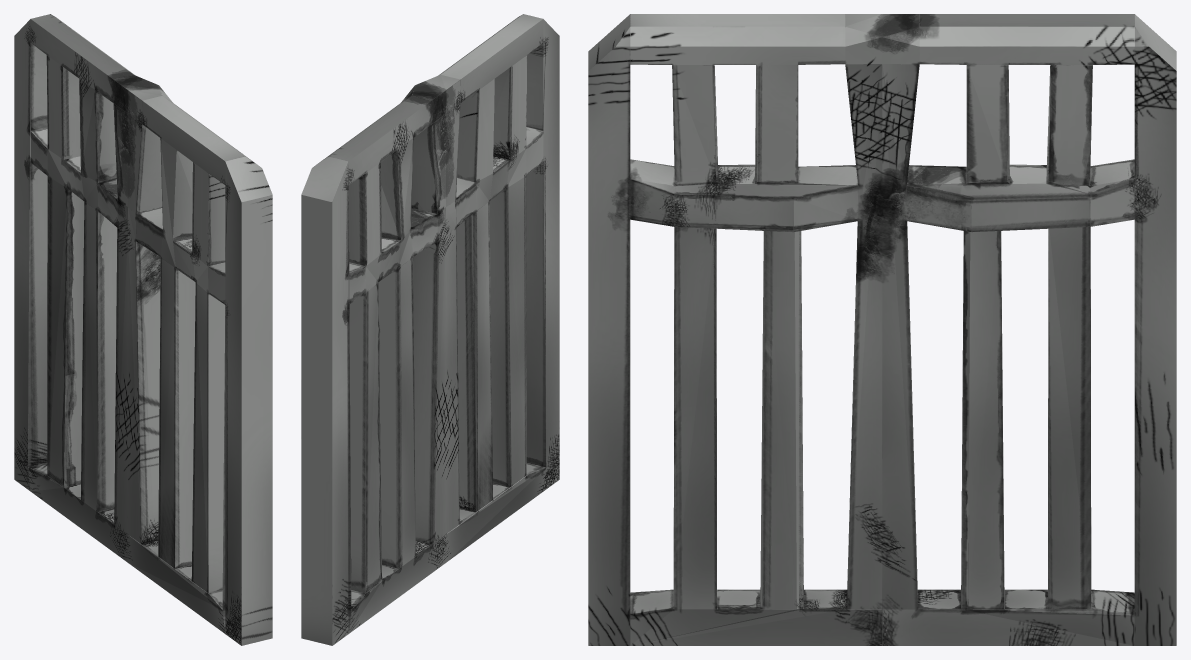
The model's file is standard_jail_door.glb.
The picture shows the model from 3 angles, left to right: view 1: azimuth 30°, elevation 25°; view 2: azimuth 150°, elevation 25°; view 3: azimuth 270°, elevation 25°; orthographic projection. The views are drawn at different scales.
Visible parts, largest first — view 1: JAIL_DOOR; view 2: JAIL_DOOR; view 3: JAIL_DOOR.
Part boxes in pixels (bbox=[...]): JAIL_DOOR: bbox=[14, 14, 272, 645]; JAIL_DOOR: bbox=[301, 14, 559, 645]; JAIL_DOOR: bbox=[588, 14, 1176, 645].
Bounding box in the file's own units: 0.7356 × 7.22 × 6.29.
Materials: 1 (1 with a texture image).
